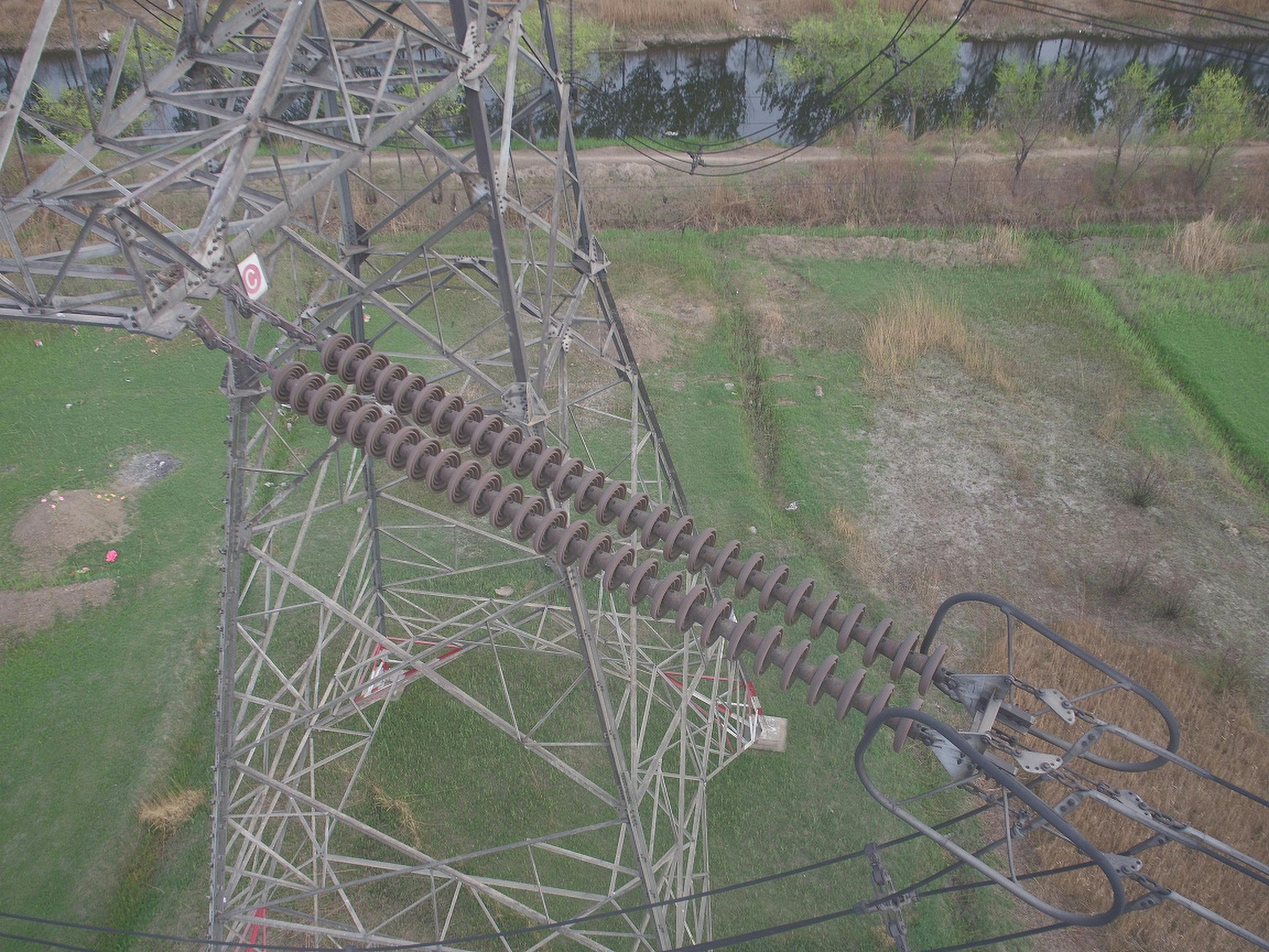insulator: (265, 327, 952, 755)
